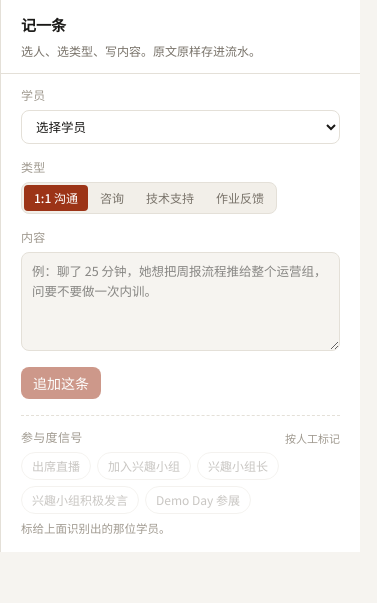
Test case: 参与度信号 › 选中没有有效报课的学员时，信号按钮保持禁用并显示说明文案
This screenshot has width=377, height=603.
Select "学员乙" in the dropdown labelled "学员" at (180, 126), box x1=21 y1=110 x2=340 y2=144
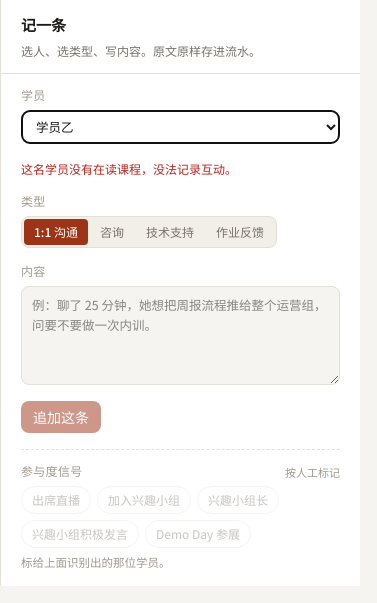
Expected: the button "出席直播" is disabled, x1=21 y1=486 x2=91 y2=514
Expected: the text "这名学员没有在读课程，没法记录互动。" is shown, x1=21 y1=160 x2=237 y2=176
